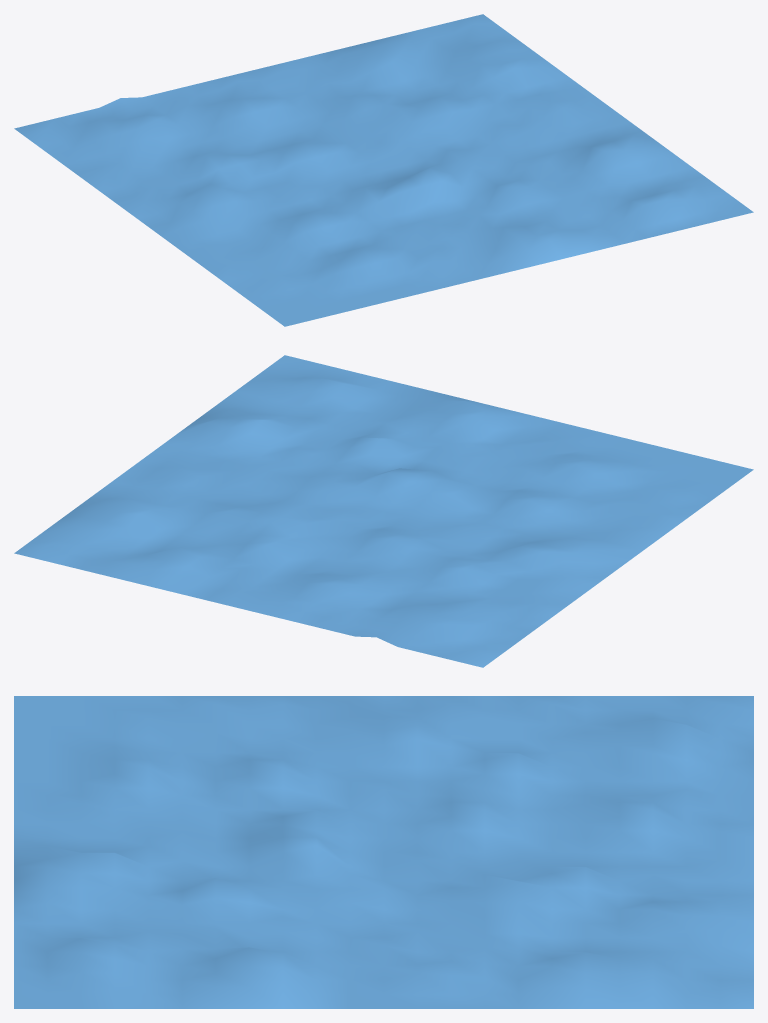
The model's file is coloringguys_oceanic.fbx.
3 views of the same model, one above another, from view 1: azimuth 30°, elevation 25°; view 2: azimuth 150°, elevation 25°; view 3: azimuth 270°, elevation 25° (orthographic). The views are drawn at different scales.
Parts seen in each view (by area): view 1: Плоскость; view 2: Плоскость; view 3: Плоскость.
Part boxes in pixels (bbox=[...]): Плоскость: bbox=[14, 14, 753, 326]; Плоскость: bbox=[14, 355, 753, 667]; Плоскость: bbox=[14, 696, 753, 1008].
Size of the model in its own units: 14446 by 455 by 14446.
